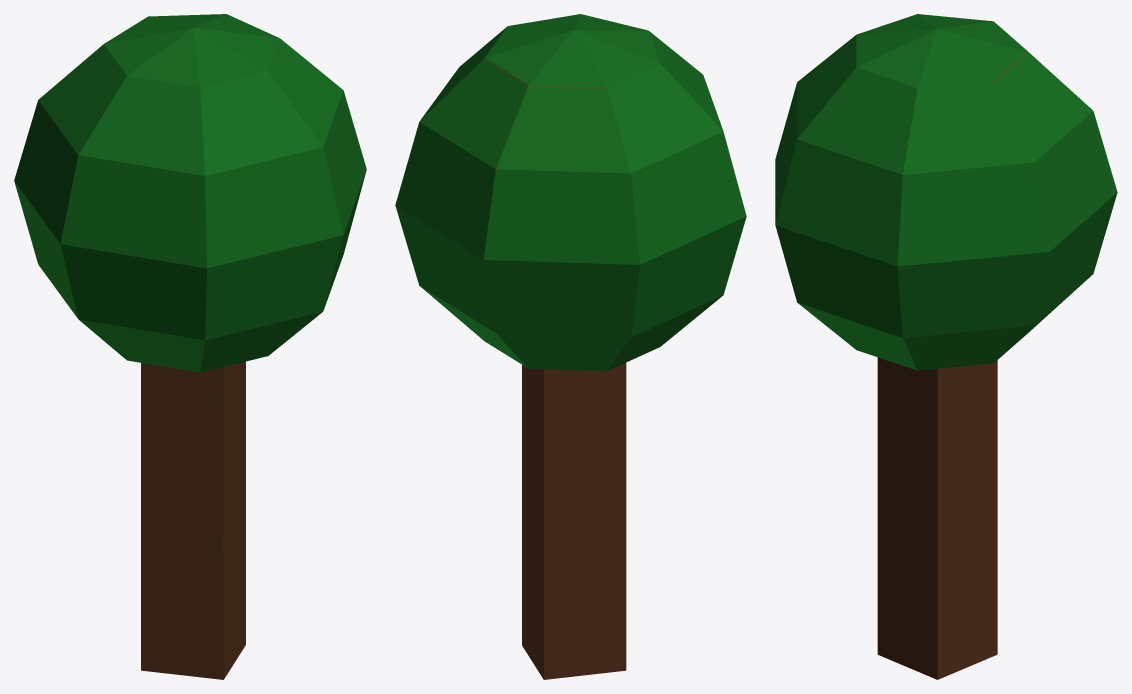
File: modelo.obj
3 renders of one model, left to right at view 1: azimuth 30°, elevation 25°; view 2: azimuth 150°, elevation 25°; view 3: azimuth 270°, elevation 25°, orthographic.
Parts seen in each view (by area): view 1: Sphere; view 2: Sphere; view 3: Sphere.
Boxes of the visible parts, box(x1,y1,x2,y2) form: Sphere: box(14, 14, 366, 679); Sphere: box(395, 14, 746, 679); Sphere: box(775, 14, 1117, 679).
Bounding box in the file's own units: 5.85 × 11.5 × 5.7.
